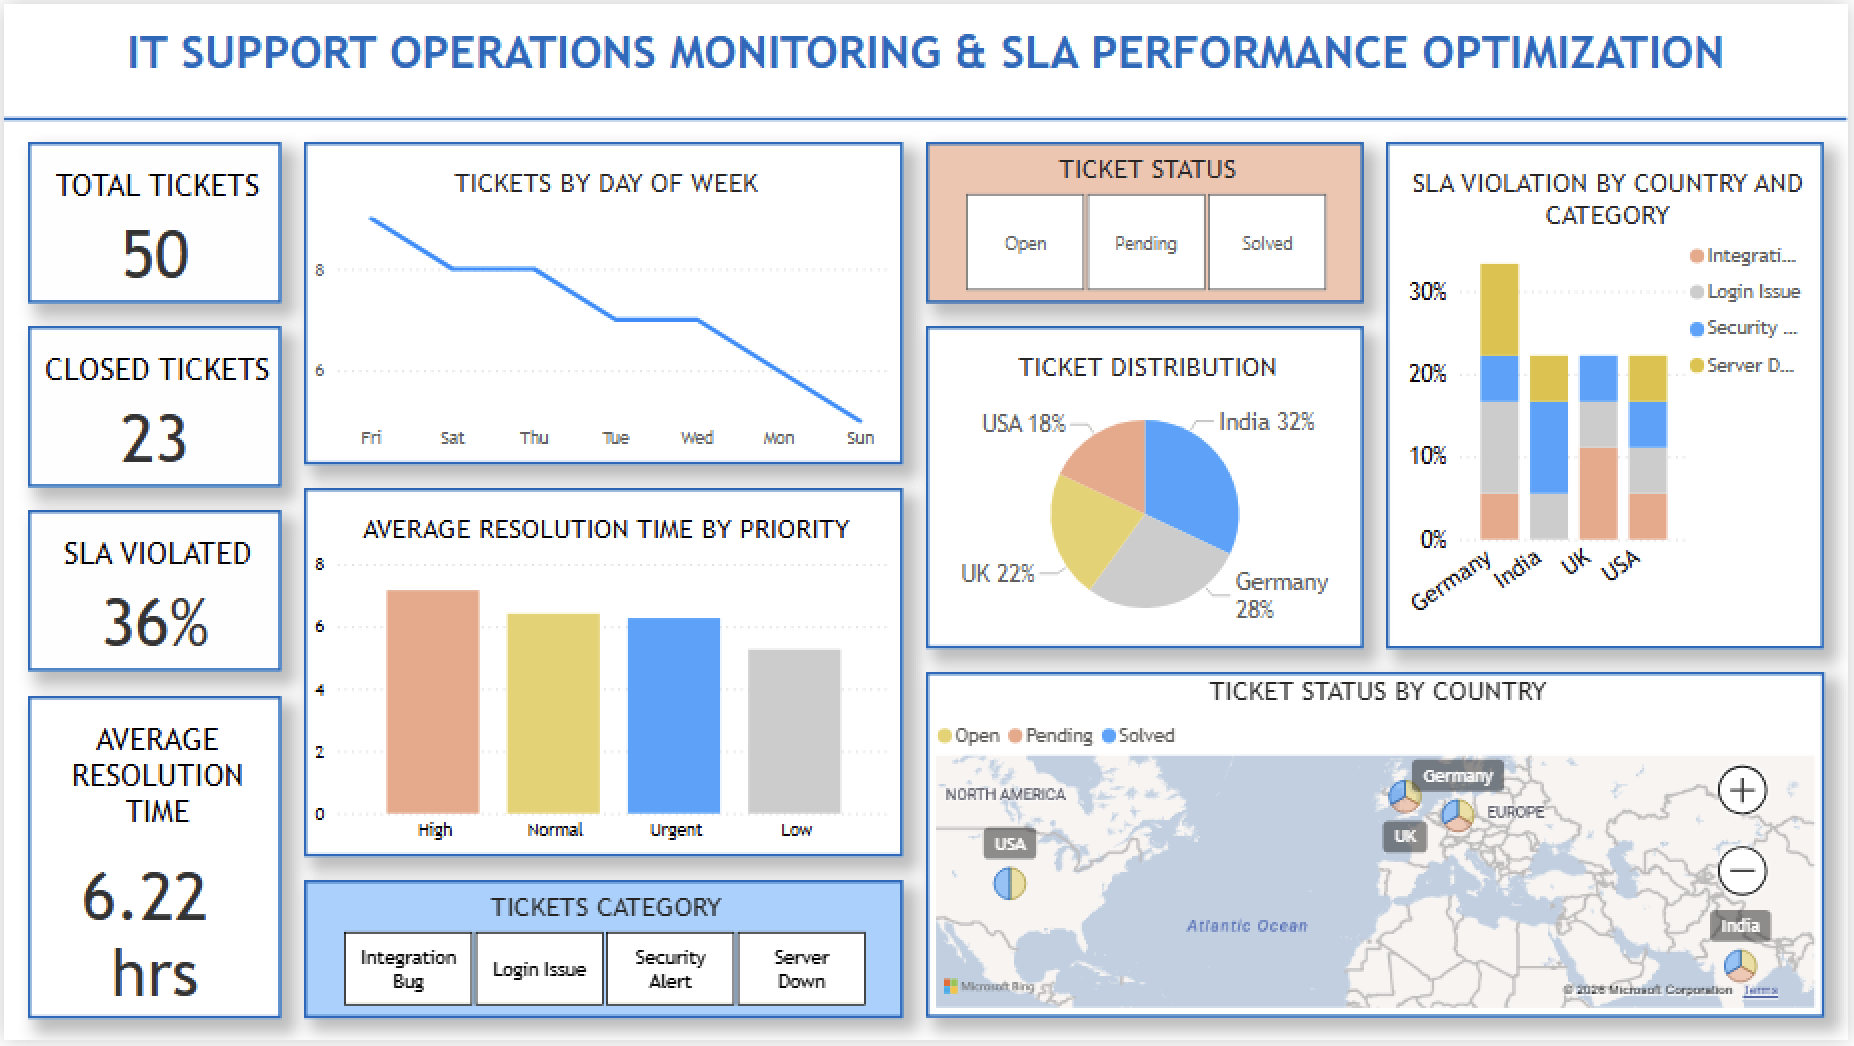

This screenshot's page, from the dashboard's own definition file:
{"tool":"powerbi","page":{"name":"Page 1","canvas":[1280,720],"ordinal":0},"visuals":[{"type":"textbox","title":"IT Support Team Performance Overview","box":[0,0,1280,80],"z":0},{"type":"shape","box":[0,64,1280,32],"z":1000},{"type":"card","title":"AVERAGE RESOLUTION TIME","fields":{"Values":["tickets.Average Resolution Time"]},"box":[16,480,176,224],"z":2000},{"type":"card","title":"TOTAL TICKETS","fields":{"Values":["tickets.Total Tickets"]},"box":[16,96,176,112],"z":3000},{"type":"card","title":"SLA VIOLATED","fields":{"Values":["tickets.SLA Violated percentage"]},"box":[16,352,176,112],"z":4000},{"type":"card","title":"CLOSED TICKETS","fields":{"Values":["tickets.Closed Tickets"]},"box":[16,224,176,112],"z":5000},{"type":"clusteredColumnChart","title":"AVERAGE RESOLUTION TIME BY PRIORITY","fields":{"Category":["tickets.tickets.priority"],"Y":["tickets.Average Resolution Time"]},"box":[208,336,416,256],"z":6000},{"type":"lineChart","title":"TICKETS BY DAY OF WEEK","fields":{"Category":["tickets.Day"],"Y":["CountNonNull(tickets.tickets.ticket_id)"]},"box":[208,96,416,224],"z":7000},{"type":"columnChart","title":"SLA VIOLATION BY COUNTRY AND CATEGORY","fields":{"Category":["tickets.tickets.country"],"Series":["tickets.tickets.category"],"Y":["tickets.SLA Violated"]},"box":[960,96,304,352],"z":8000},{"type":"pieChart","title":"TICKET DISTRIBUTION","fields":{"Category":["tickets.tickets.country"],"Y":["CountNonNull(tickets.tickets.ticket_id)"]},"box":[640,224,304,224],"z":9000},{"type":"map","title":"TICKET STATUS BY COUNTRY","fields":{"Category":["tickets.tickets.country"],"Series":["tickets.tickets.status"]},"box":[640,464,624,240],"z":10000},{"type":"slicer","title":"TICKETS CATEGORY","fields":{"Values":["tickets.tickets.category"]},"box":[208,608,416,96],"z":11000},{"type":"slicer","title":"TICKET STATUS","fields":{"Values":["tickets.tickets.status"]},"box":[640,96,304,112],"z":12000}]}

Visuals, with their boxes in screenshot pixels (x1, y1, x2, y2), scaled from the page's 1280x720 canvas onto the 1854x1046 screenshot:
"IT Support Team Performance Overview" textbox: x1=0, y1=0, x2=1853, y2=116
shape: x1=0, y1=93, x2=1853, y2=139
"AVERAGE RESOLUTION TIME" card: x1=23, y1=697, x2=278, y2=1023
"TOTAL TICKETS" card: x1=23, y1=139, x2=278, y2=302
"SLA VIOLATED" card: x1=23, y1=511, x2=278, y2=674
"CLOSED TICKETS" card: x1=23, y1=325, x2=278, y2=488
"AVERAGE RESOLUTION TIME BY PRIORITY" clusteredColumnChart: x1=301, y1=488, x2=904, y2=860
"TICKETS BY DAY OF WEEK" lineChart: x1=301, y1=139, x2=904, y2=465
"SLA VIOLATION BY COUNTRY AND CATEGORY" columnChart: x1=1390, y1=139, x2=1831, y2=651
"TICKET DISTRIBUTION" pieChart: x1=927, y1=325, x2=1367, y2=651
"TICKET STATUS BY COUNTRY" map: x1=927, y1=674, x2=1831, y2=1023
"TICKETS CATEGORY" slicer: x1=301, y1=883, x2=904, y2=1023
"TICKET STATUS" slicer: x1=927, y1=139, x2=1367, y2=302
